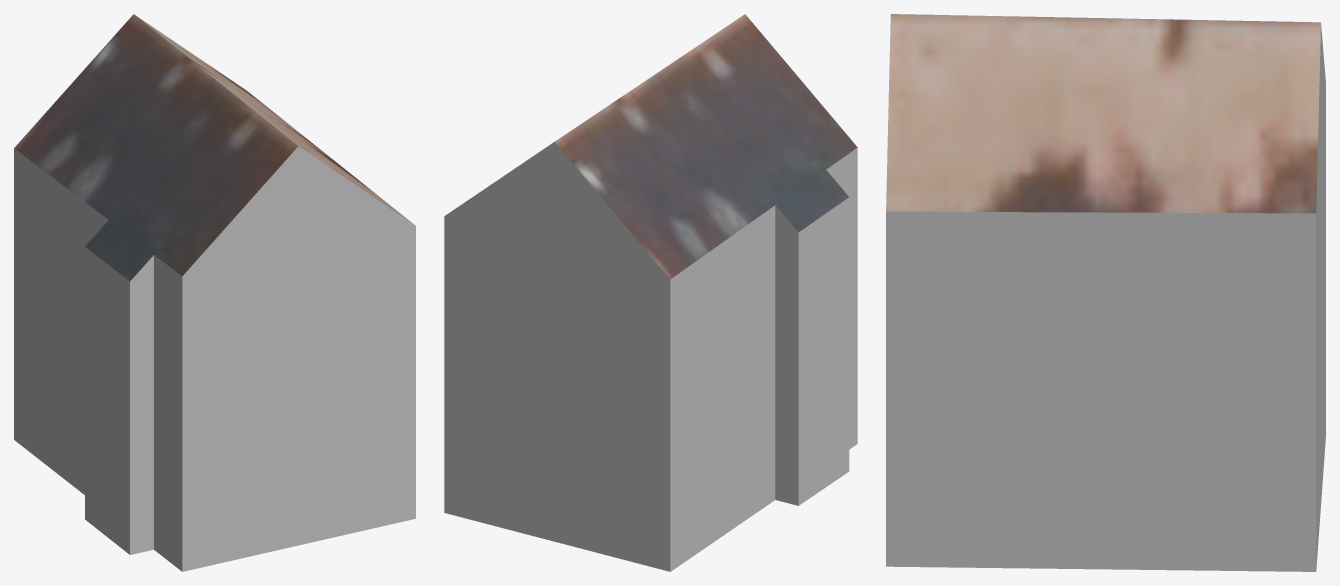
Rendered from DEBW_0010007Tx3m.gltf.
3 views of the same model, side by side, from view 1: azimuth 30°, elevation 25°; view 2: azimuth 150°, elevation 25°; view 3: azimuth 270°, elevation 25° (orthographic). The views are drawn at different scales.
Parts seen in each view (by area): view 1: Z_UP; view 2: Z_UP; view 3: Z_UP.
Boxes of the visible parts, left/top/right/bottom form: Z_UP: left=14, top=14, right=415, bottom=571; Z_UP: left=444, top=14, right=857, bottom=571; Z_UP: left=886, top=14, right=1325, bottom=571.
Size of the model in its own units: 10.56 by 15.46 by 12.73.
2 materials, 1 textured.
